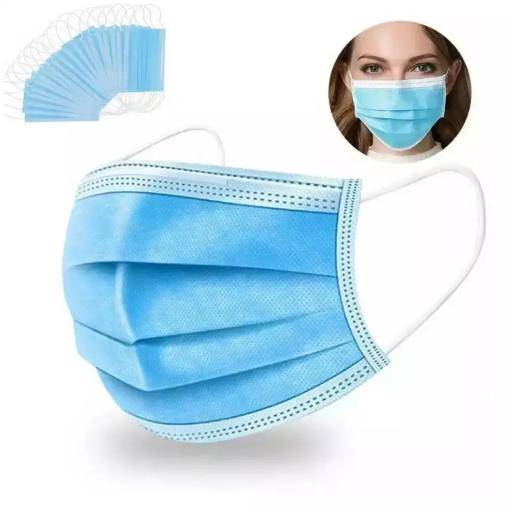mask: (62, 148, 407, 468), (350, 76, 461, 152)
